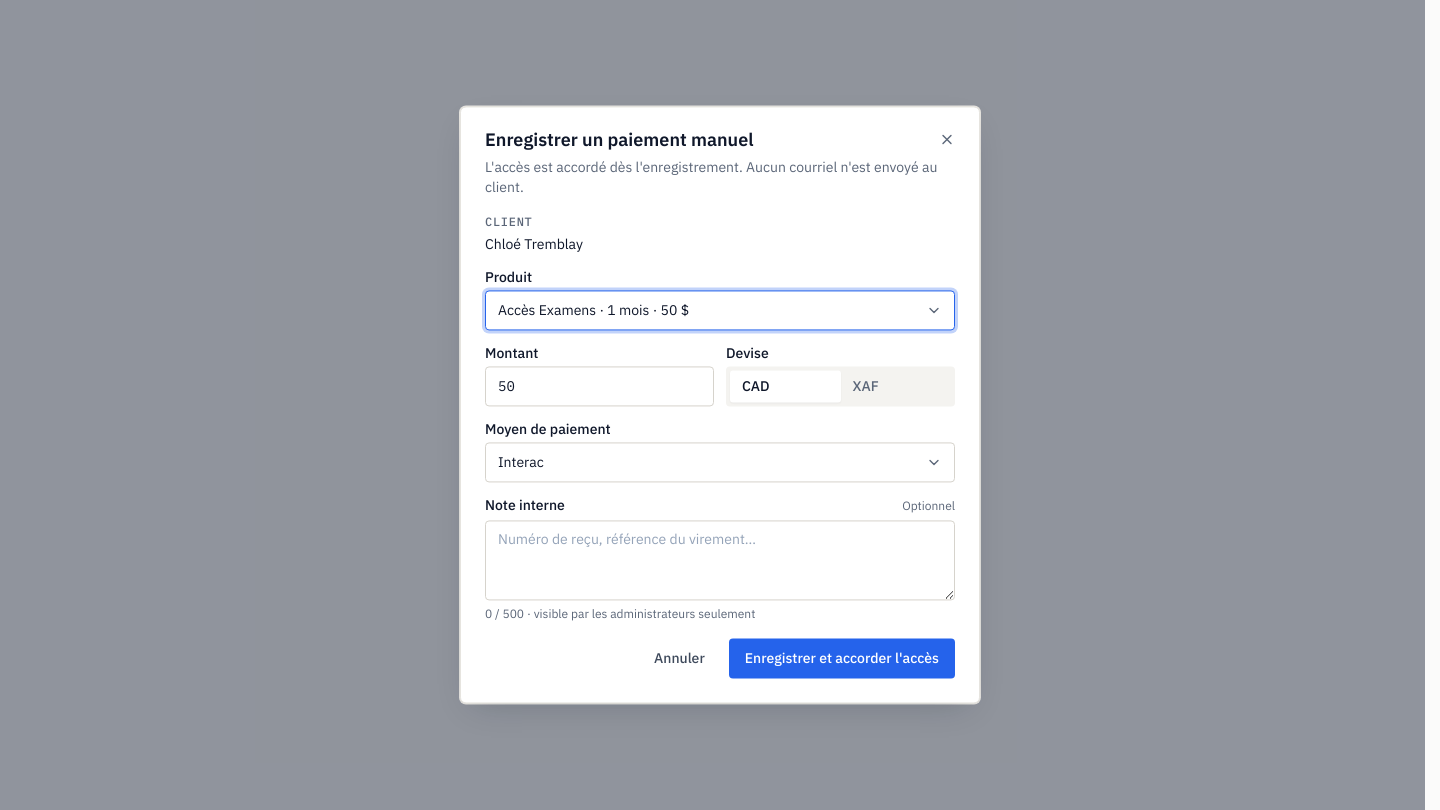
ManualPaymentDialog › montant différent du prix : rappel du prix du produit
The image size is (1440, 810).
Replace the text in the field labelled "Montant" with "40" at {"x": 600, "y": 387}, box [485, 367, 714, 407]
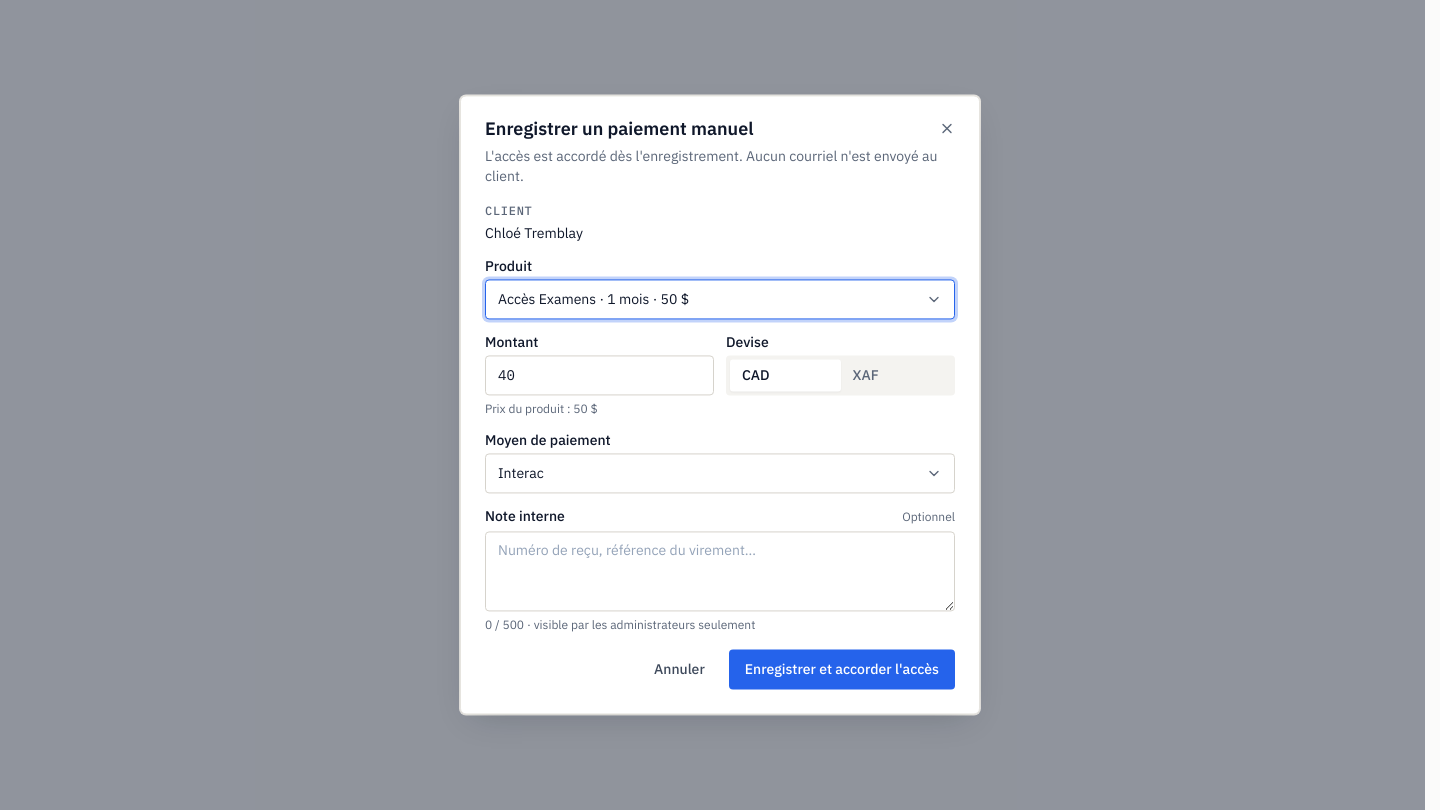
Now the text "Prix du produit : 50 $" is shown, box [485, 402, 598, 417]
